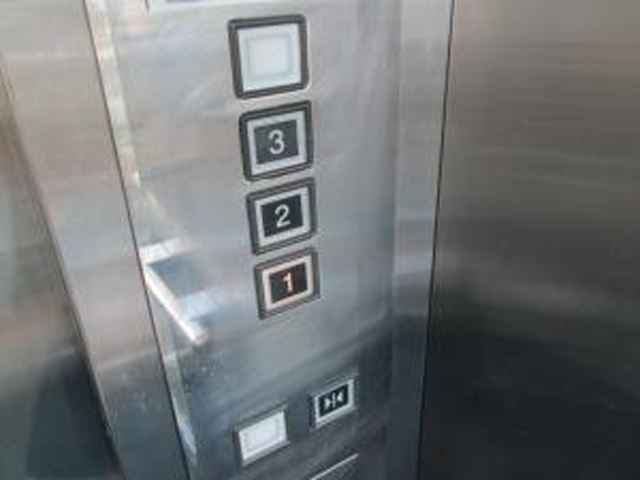1: (253, 247, 323, 323)
2: (244, 178, 316, 257)
3: (239, 102, 314, 180)
close: (306, 367, 359, 435)
empty: (227, 13, 310, 97)
unknown: (230, 401, 290, 475)
